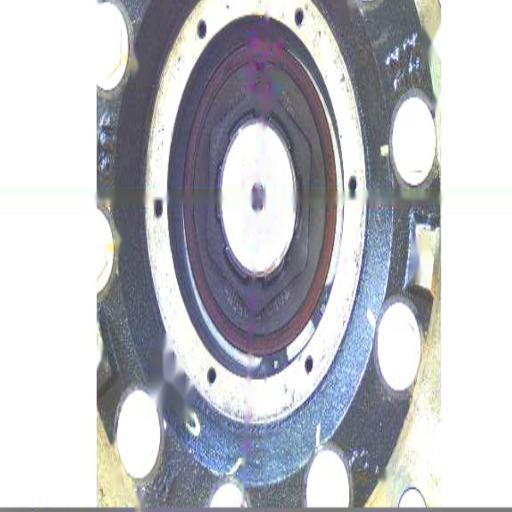center: (250, 176, 264, 213)
notch: (252, 57, 266, 77)
